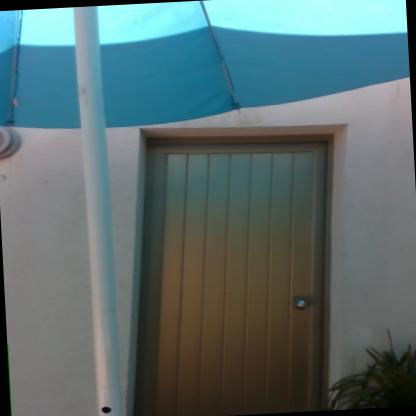closed: (116, 97, 368, 414)
